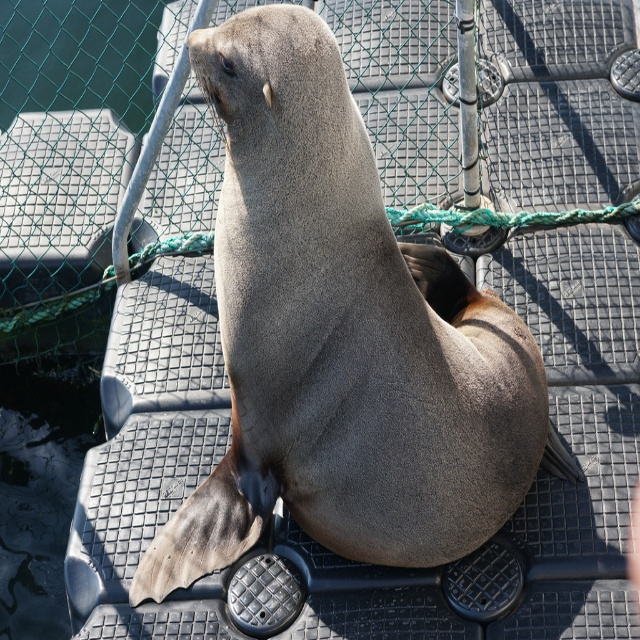Harbor seal: (130, 0, 586, 610)
